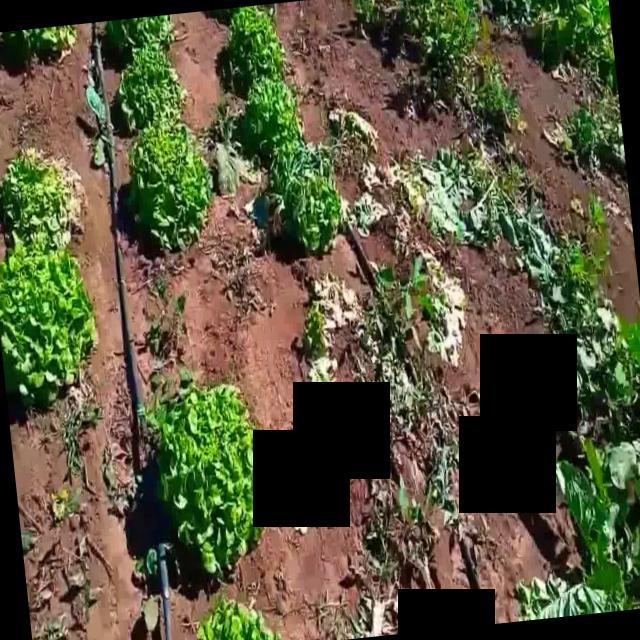Lettuce: (152, 380, 262, 582), (0, 239, 97, 403), (125, 119, 212, 255), (265, 137, 342, 255), (0, 147, 80, 238), (116, 44, 185, 130), (246, 76, 301, 145), (194, 596, 273, 640), (229, 35, 285, 81), (103, 13, 175, 48), (3, 23, 79, 51), (230, 5, 274, 38)
